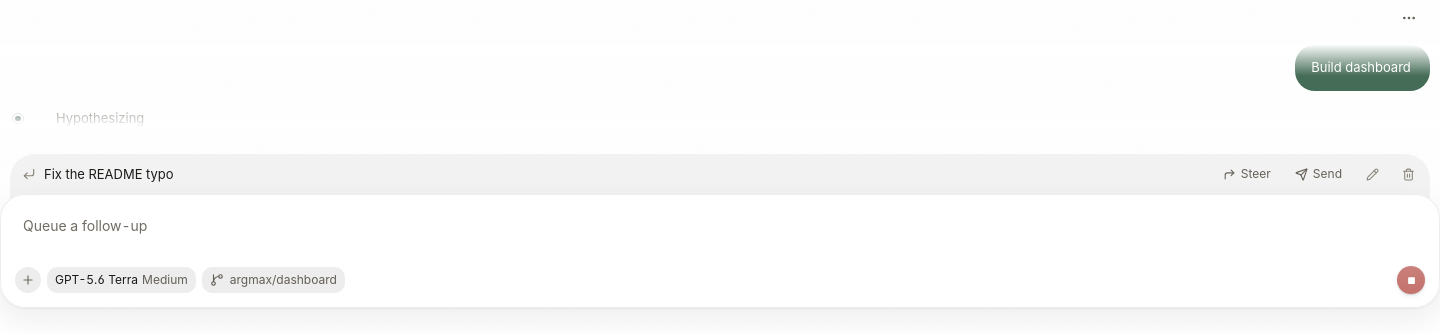
Test: SessionComposer queued follow-up editing › takes the queued message out of the queue and back into the prompt
Click the button named "Edit queued follow-up: Fix the README typo". click: click(1372, 174)
box: [1358,160,1386,188]
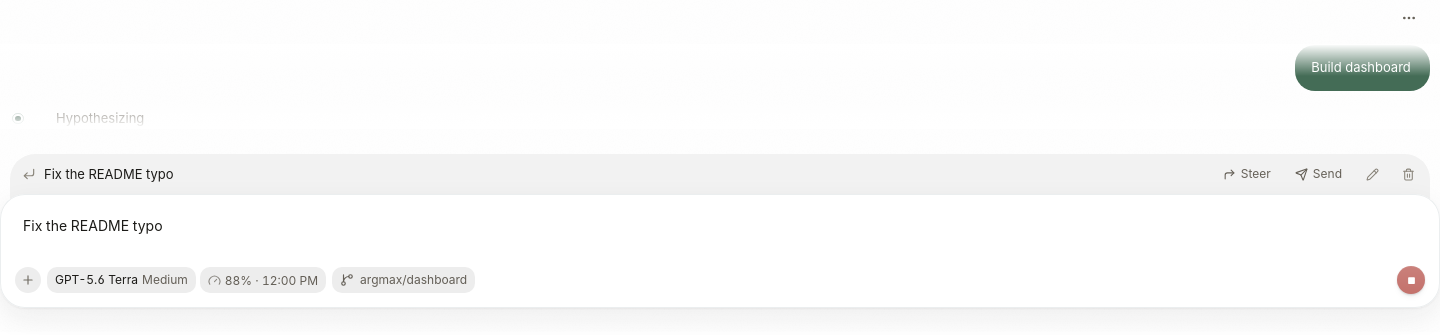
expect the text box named "Chat prompt" holds "Fix the README typo": met, box [15,207,1425,259]
